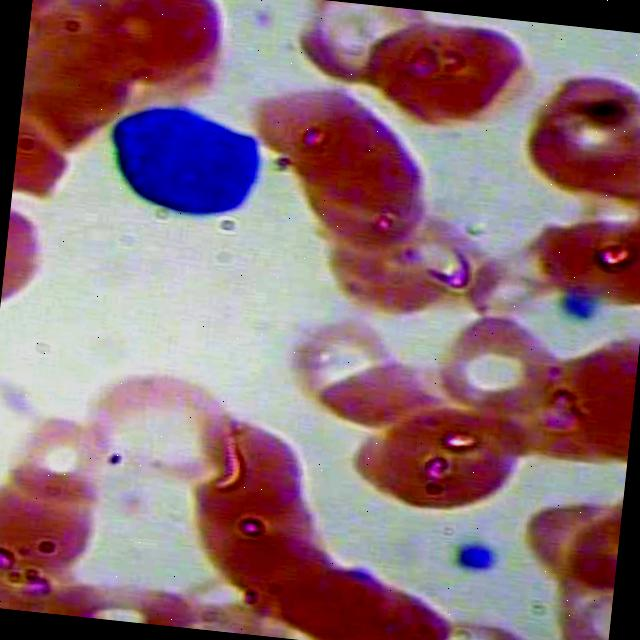Platelets: (444, 528, 516, 580), (552, 290, 612, 332)
RBC: (350, 5, 541, 140), (350, 388, 534, 520), (76, 358, 245, 499), (185, 463, 354, 604), (166, 405, 334, 546), (426, 302, 570, 430), (298, 312, 442, 440), (264, 290, 409, 417), (244, 70, 408, 182), (284, 109, 448, 221), (292, 152, 456, 264), (317, 208, 481, 320), (288, 0, 452, 104), (75, 0, 240, 93), (265, 549, 424, 640), (516, 54, 640, 164), (0, 469, 118, 579), (522, 100, 640, 209), (516, 479, 624, 598), (528, 201, 640, 309), (540, 496, 622, 612), (156, 577, 306, 640), (315, 580, 471, 640), (66, 568, 200, 628), (0, 204, 68, 312), (423, 603, 559, 640), (546, 569, 615, 640)
WBC: (91, 82, 278, 232)
